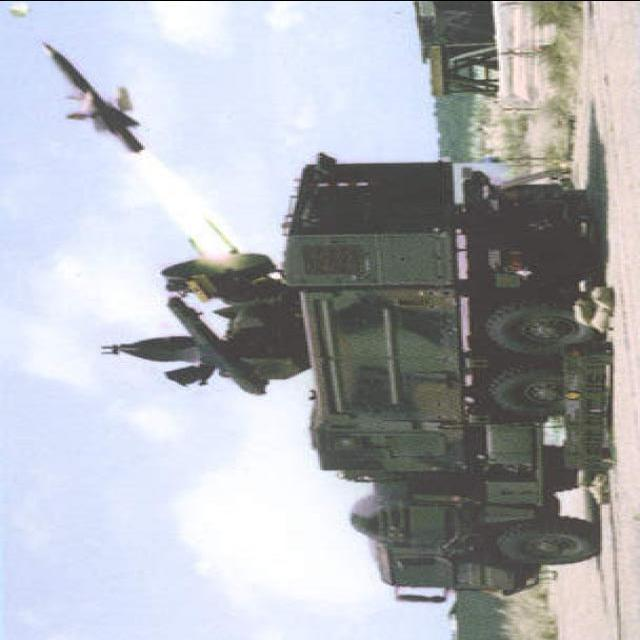missile: (30, 36, 154, 156)
